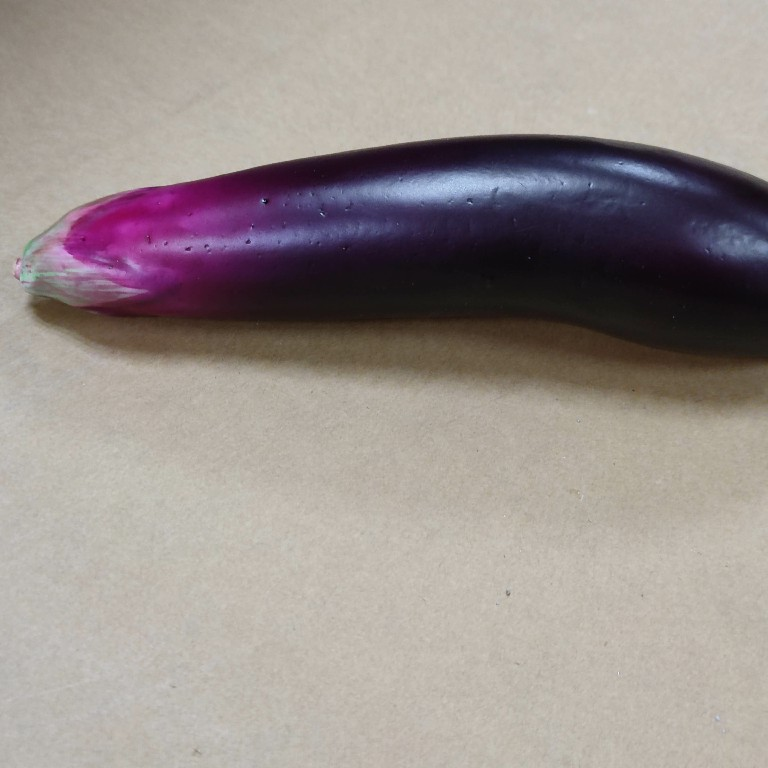fruit_eggplant: (7, 130, 768, 361)
